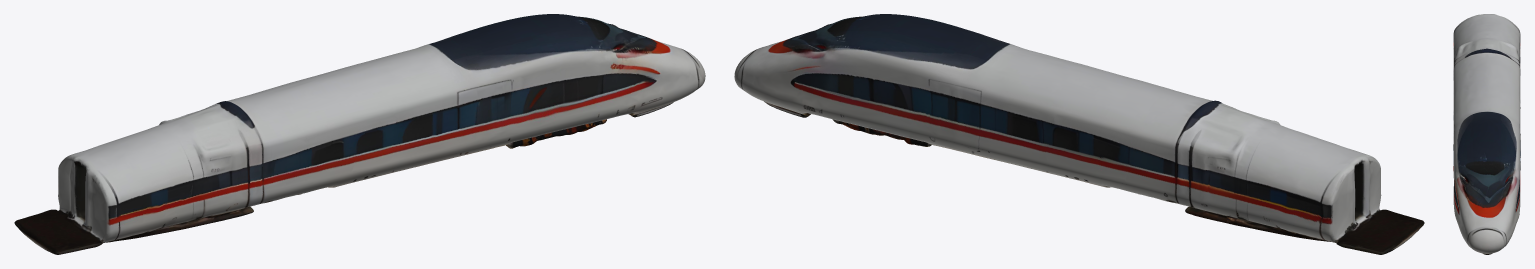
3 views of the same model, side by side, from view 1: azimuth 30°, elevation 25°; view 2: azimuth 150°, elevation 25°; view 3: azimuth 270°, elevation 25° (orthographic). The views are drawn at different scales.
Visible parts, largest first — view 1: tripo_node_c34ec856-fc05-42ea-86d0-404073fa9b67; view 2: tripo_node_c34ec856-fc05-42ea-86d0-404073fa9b67; view 3: tripo_node_c34ec856-fc05-42ea-86d0-404073fa9b67.
Boxes of the visible parts, bbox=[...] form: tripo_node_c34ec856-fc05-42ea-86d0-404073fa9b67: bbox=[14, 14, 705, 254]; tripo_node_c34ec856-fc05-42ea-86d0-404073fa9b67: bbox=[734, 14, 1424, 254]; tripo_node_c34ec856-fc05-42ea-86d0-404073fa9b67: bbox=[1453, 14, 1520, 254].
Size of the model in its own units: 0.95 by 0.1535 by 0.1281.
1 material, 1 textured.
